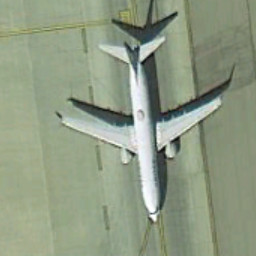Airplane: (43, 32, 235, 239)
